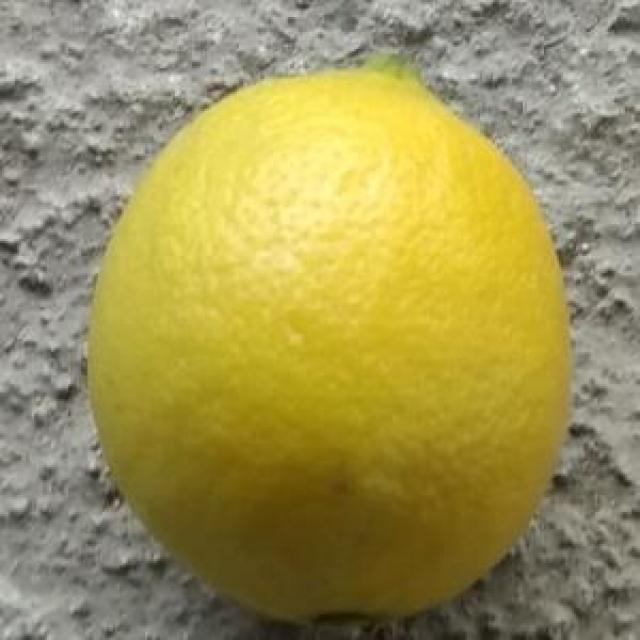lemon: (84, 53, 578, 634)
